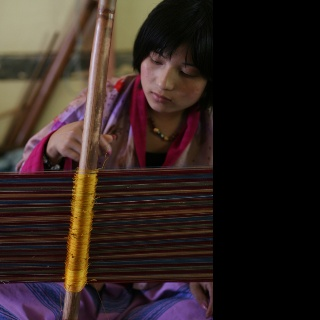without_mask: (138, 42, 208, 111)
